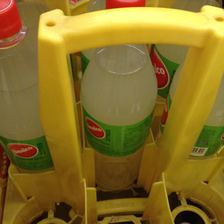soda: (79, 1, 159, 192), (1, 1, 54, 172)
